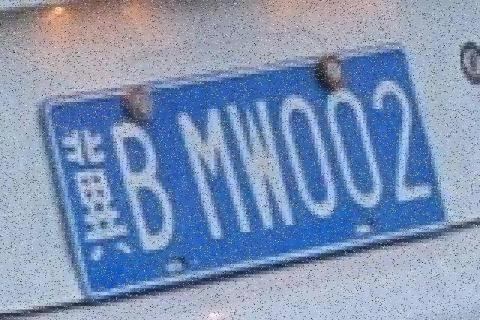LicensePlate: (27, 26, 461, 308)
